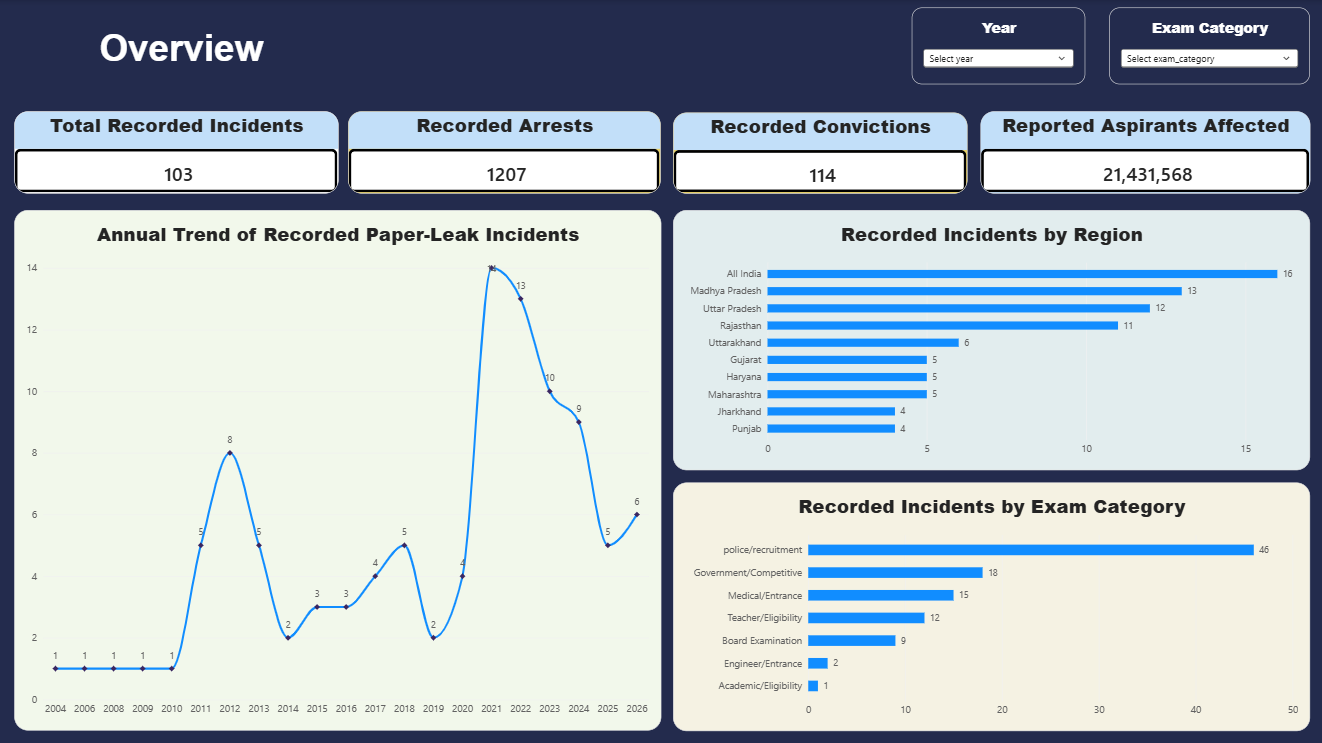

What the dashboard file says about the page in this screenshot:
{"tool":"powerbi","page":{"name":"Executive Overview","canvas":[1920,1080],"ordinal":0},"visuals":[{"type":"cardVisual","title":"Total Recorded Incidents","fields":{"Data":["paper_leaks_cleaned.Total Incidents"]},"box":[22.6,160.5,469.3,119.4],"z":0},{"type":"cardVisual","title":"Recorded Convictions","fields":{"Data":["paper_leaks_cleaned.Total Recorded Convictions"]},"box":[977.7,162.6,426.1,117.3],"z":1000},{"type":"cardVisual","title":"Reported Aspirants Affected","fields":{"Data":["paper_leaks_cleaned.Reported Aspirants Affected - Display"]},"box":[1422.3,160.5,477.5,119.4],"z":2000},{"type":"cardVisual","title":"Recorded Arrests","fields":{"Data":["paper_leaks_cleaned.Total Recorded Arrests"]},"box":[506.3,160.5,452.8,119.4],"z":3000},{"type":"lineChart","title":"Annual Trend of Recorded Paper-Leak Incidents","fields":{"Category":["paper_leaks_cleaned.year"],"Y":["CountNonNull(paper_leaks_cleaned.incident_id)"]},"box":[22.6,304.6,936.5,753.3],"z":4000},{"type":"clusteredBarChart","title":"Recorded Incidents by Exam Category","fields":{"Category":["paper_leaks_cleaned.exam_category"],"Y":["CountNonNull(paper_leaks_cleaned.incident_id)"]},"box":[977.7,697.8,922.1,360.2],"z":5000},{"type":"clusteredBarChart","title":"Recorded Incidents by Region","fields":{"Category":["paper_leaks_cleaned.area_clean"],"Y":["CountNonNull(paper_leaks_cleaned.incident_id)"]},"box":[977.7,304.6,922.1,376.7],"z":6000},{"type":"listSlicer","title":"Year","fields":{"Values":["paper_leaks_cleaned.year"]},"box":[1323.5,10.3,251.1,111.1],"z":7000},{"type":"listSlicer","title":"Exam Category","fields":{"Values":["paper_leaks_cleaned.exam_category"]},"box":[1609.6,10.3,290.2,111.1],"z":8000},{"type":"textbox","box":[22.6,39.1,483.7,67.9],"z":8001}]}

Visuals, with their boxes in screenshot pixels (x1, y1, x2, y2), scaled from the page's 1920x1080 canvas onto the 1322x743 screenshot:
"Total Recorded Incidents" cardVisual: crop(16, 110, 339, 193)
"Recorded Convictions" cardVisual: crop(673, 112, 967, 193)
"Reported Aspirants Affected" cardVisual: crop(979, 110, 1308, 193)
"Recorded Arrests" cardVisual: crop(349, 110, 660, 193)
"Annual Trend of Recorded Paper-Leak Incidents" lineChart: crop(16, 210, 660, 728)
"Recorded Incidents by Exam Category" clusteredBarChart: crop(673, 480, 1308, 728)
"Recorded Incidents by Region" clusteredBarChart: crop(673, 210, 1308, 469)
"Year" listSlicer: crop(911, 7, 1084, 84)
"Exam Category" listSlicer: crop(1108, 7, 1308, 84)
textbox: crop(16, 27, 349, 74)
